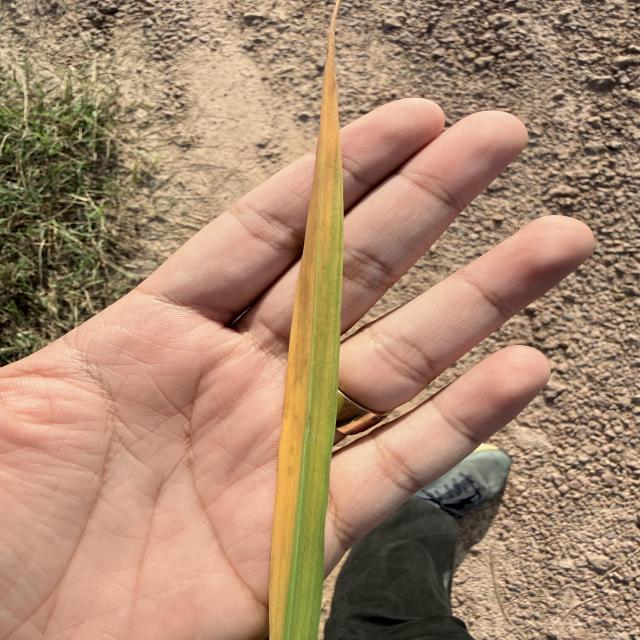Chay bia la: (268, 0, 340, 640)
